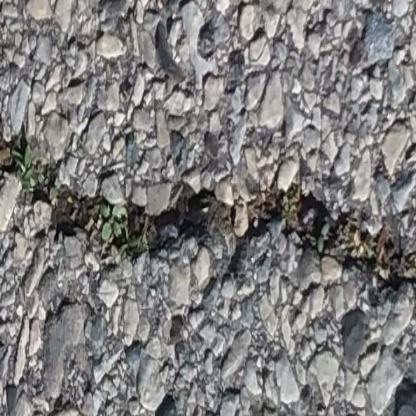Cracks: (0, 75, 416, 301), (378, 0, 416, 21)
